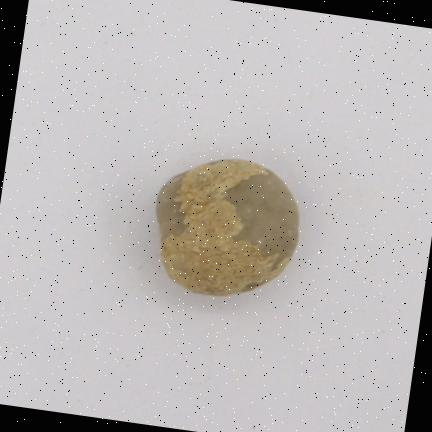husk: (156, 159, 298, 295)
